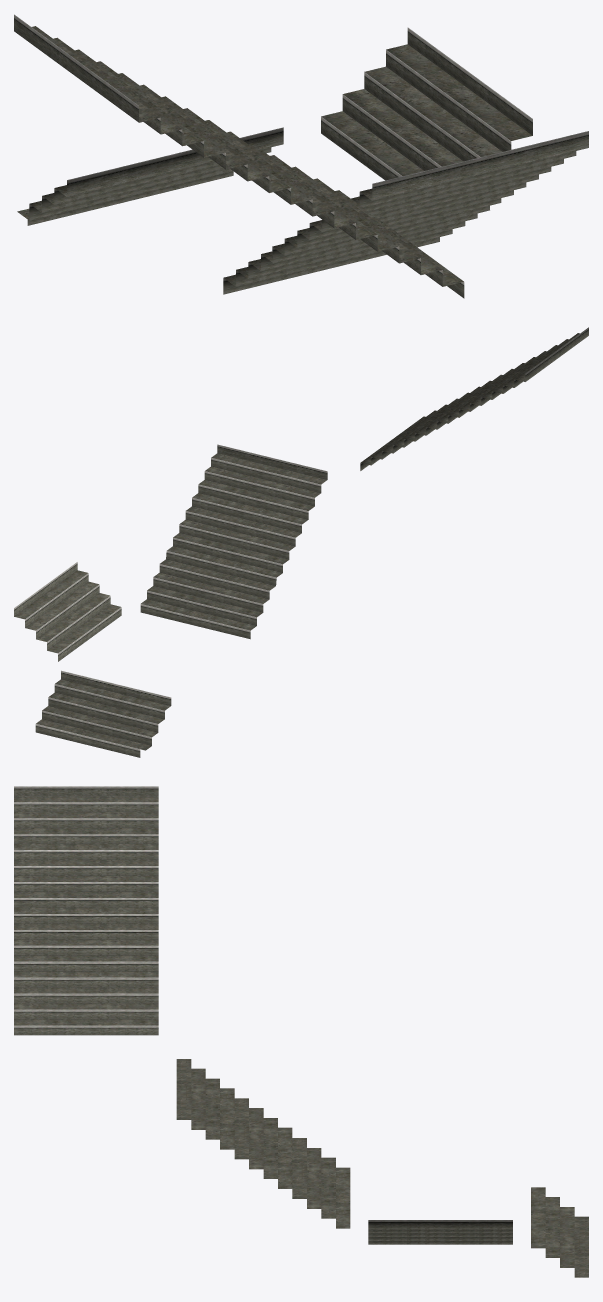
The model's file is DWARF_PALACE_FORGEROOM_STAIRS02.fbx.
3 renders of one model, top to bottom at view 1: azimuth 30°, elevation 25°; view 2: azimuth 150°, elevation 25°; view 3: azimuth 270°, elevation 25°, orthographic. The views are drawn at different scales.
Parts seen in each view (by area): view 1: DWARF_PALACE_FORGEROOM_STAIRS02; view 2: DWARF_PALACE_FORGEROOM_STAIRS02; view 3: DWARF_PALACE_FORGEROOM_STAIRS02.
Boxes of the visible parts, left/top/right/bottom form: DWARF_PALACE_FORGEROOM_STAIRS02: left=14, top=14, right=588, bottom=298; DWARF_PALACE_FORGEROOM_STAIRS02: left=14, top=327, right=588, bottom=757; DWARF_PALACE_FORGEROOM_STAIRS02: left=14, top=786, right=588, bottom=1277.
Size of the model in its own units: 129244 by 102000 by 159000.
Materials: 2 (2 with a texture image).
